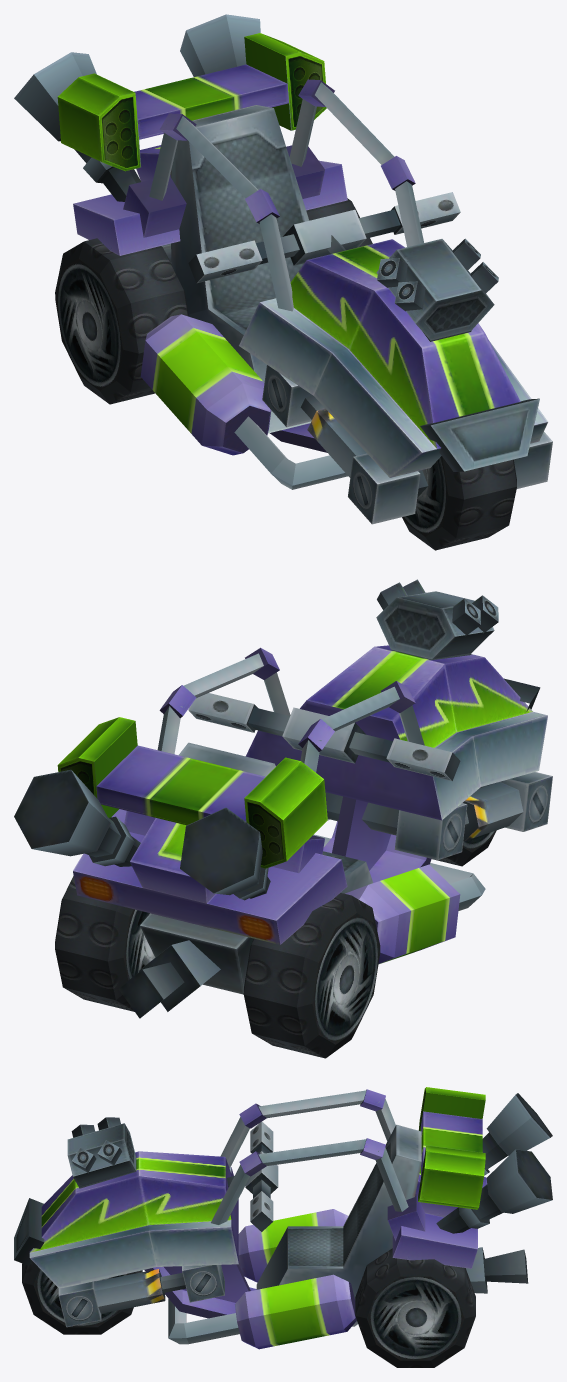
File: Ferb_AI.glb
3 views of the same model, one above another, from view 1: azimuth 30°, elevation 25°; view 2: azimuth 150°, elevation 25°; view 3: azimuth 270°, elevation 25° (orthographic). The views are drawn at different scales.
Parts seen in each view (by area): view 1: kart_ferb, right_weel, front_wheel; view 2: kart_ferb, right_weel, left_wheel, front_wheel; view 3: kart_ferb, left_wheel, front_wheel.
Boxes of the visible parts, box(x1,y1,x2,y2) form: kart_ferb: box(14, 14, 552, 524); right_weel: box(55, 238, 188, 404); front_wheel: box(402, 456, 516, 550); kart_ferb: box(14, 579, 552, 1018); right_weel: box(243, 893, 380, 1058); left_wheel: box(55, 876, 155, 1011); front_wheel: box(432, 830, 496, 866); kart_ferb: box(14, 1087, 552, 1349); left_wheel: box(355, 1248, 475, 1367); front_wheel: box(22, 1261, 142, 1334).
Bounding box in the file's own units: 1.89 × 2.06 × 4.75.
1 material, 1 textured.
